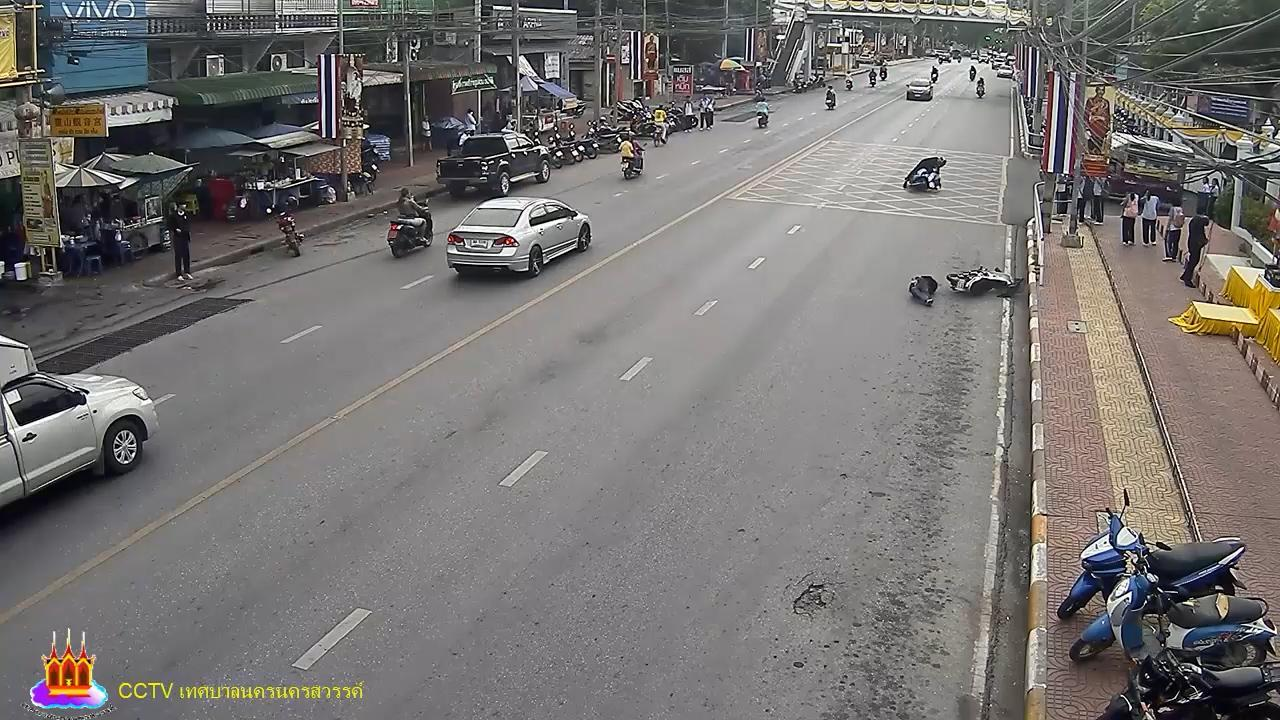accident: (906, 270, 940, 306)
